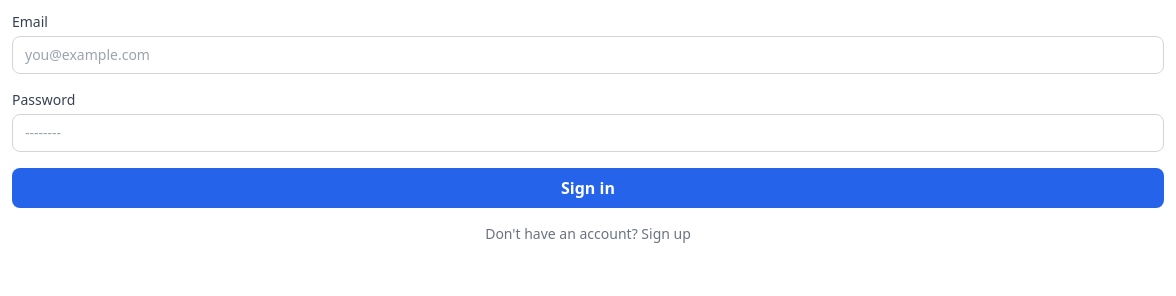
Test: AuthForm › signin mode › shows error when signIn returns error
Step 1. Type "test@test.com" into the field with placeholder "you@example.com" → (588, 55), box [12,36,1164,74]
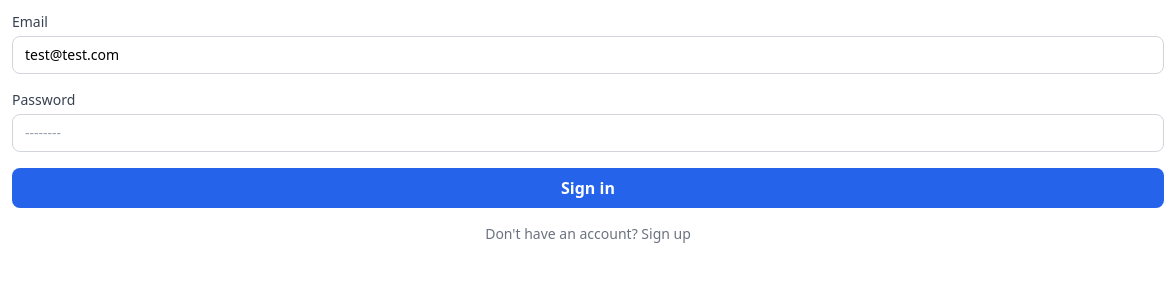
Step 2. Type "wrong" into the password field with placeholder "--------" → (588, 133), box [12,114,1164,152]
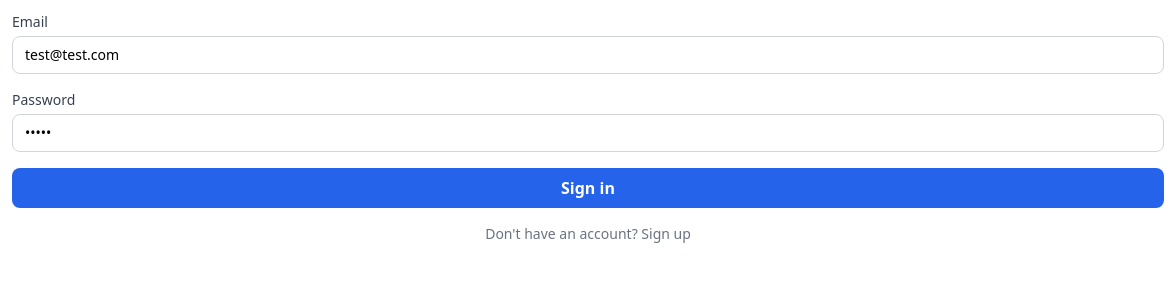
Step 3. Submit the form from the button "Sign in", box [12,168,1164,208]
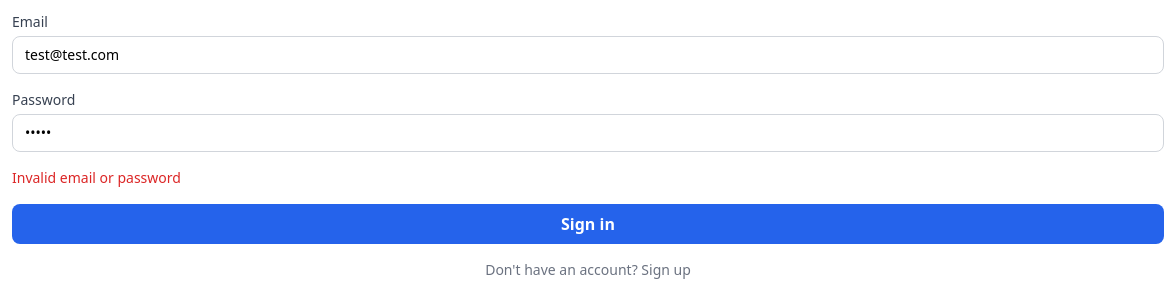
Now the text "Invalid email or password" is shown, box [12,168,181,187]
